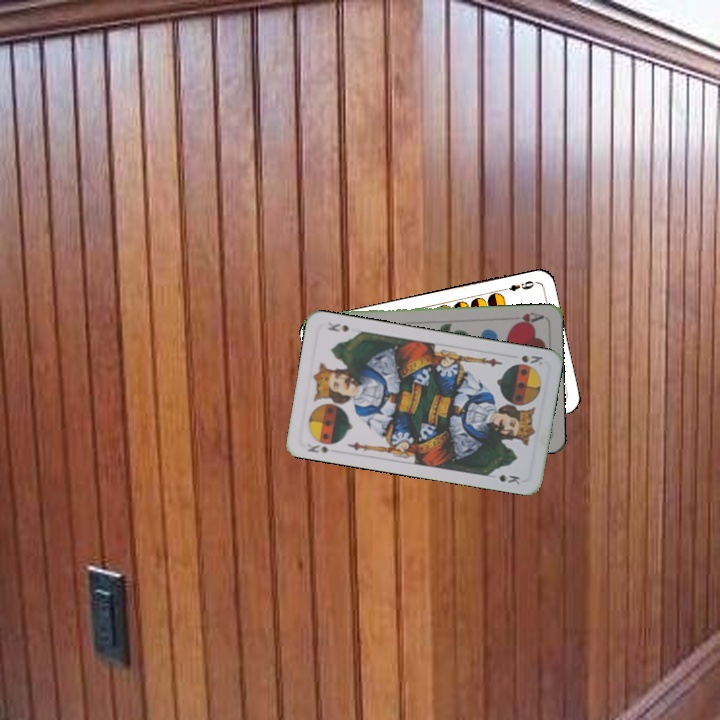E9: (498, 276, 536, 294)
HA: (508, 308, 547, 328)
SK: (512, 351, 545, 369), (303, 439, 331, 456)
